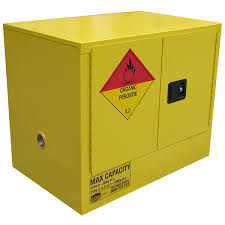OrganicPeroxide: (100, 48, 155, 120)
